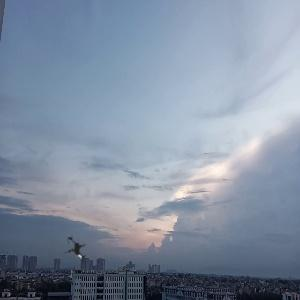drone: (49, 224, 105, 280)
